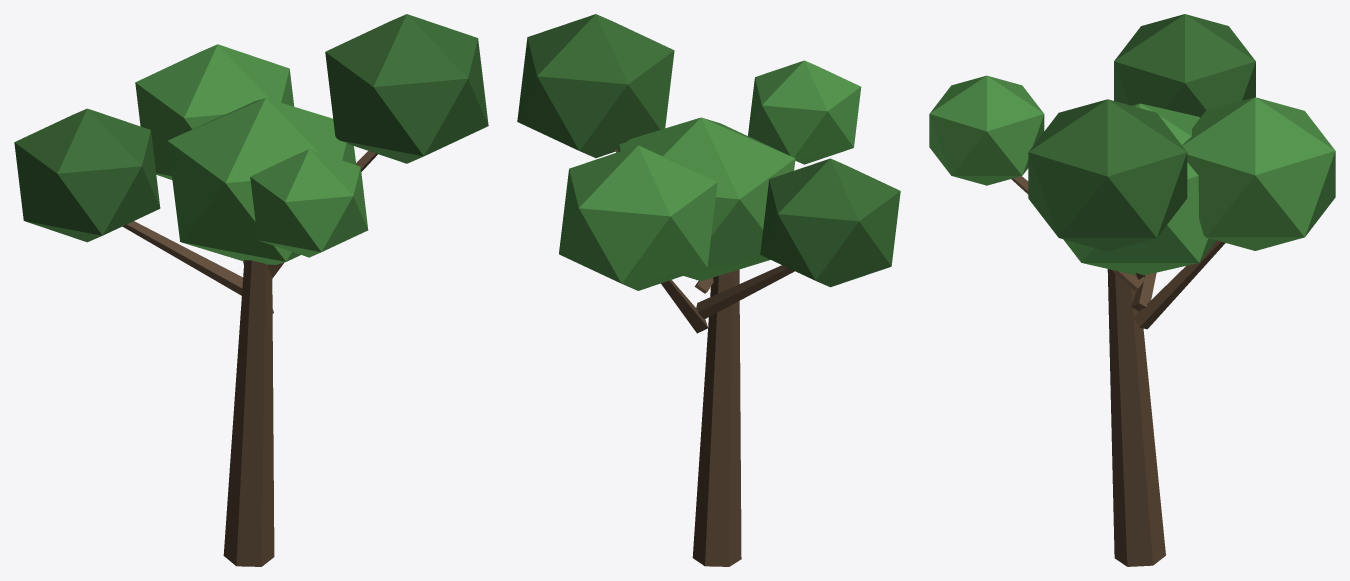
Rendered from broad-v1-summer.glb.
3 renders of one model, left to right at view 1: azimuth 30°, elevation 25°; view 2: azimuth 150°, elevation 25°; view 3: azimuth 270°, elevation 25°, orthographic. The views are drawn at different scales.
Parts seen in each view (by area): view 1: broad_v1; view 2: broad_v1; view 3: broad_v1.
Part boxes in pixels (x1,y1,x2,y2): broad_v1: (14, 14, 488, 566); broad_v1: (517, 14, 900, 566); broad_v1: (929, 14, 1335, 566).
Size of what is drawn, in the model's own units: 5.69 by 6.8 by 4.73.
